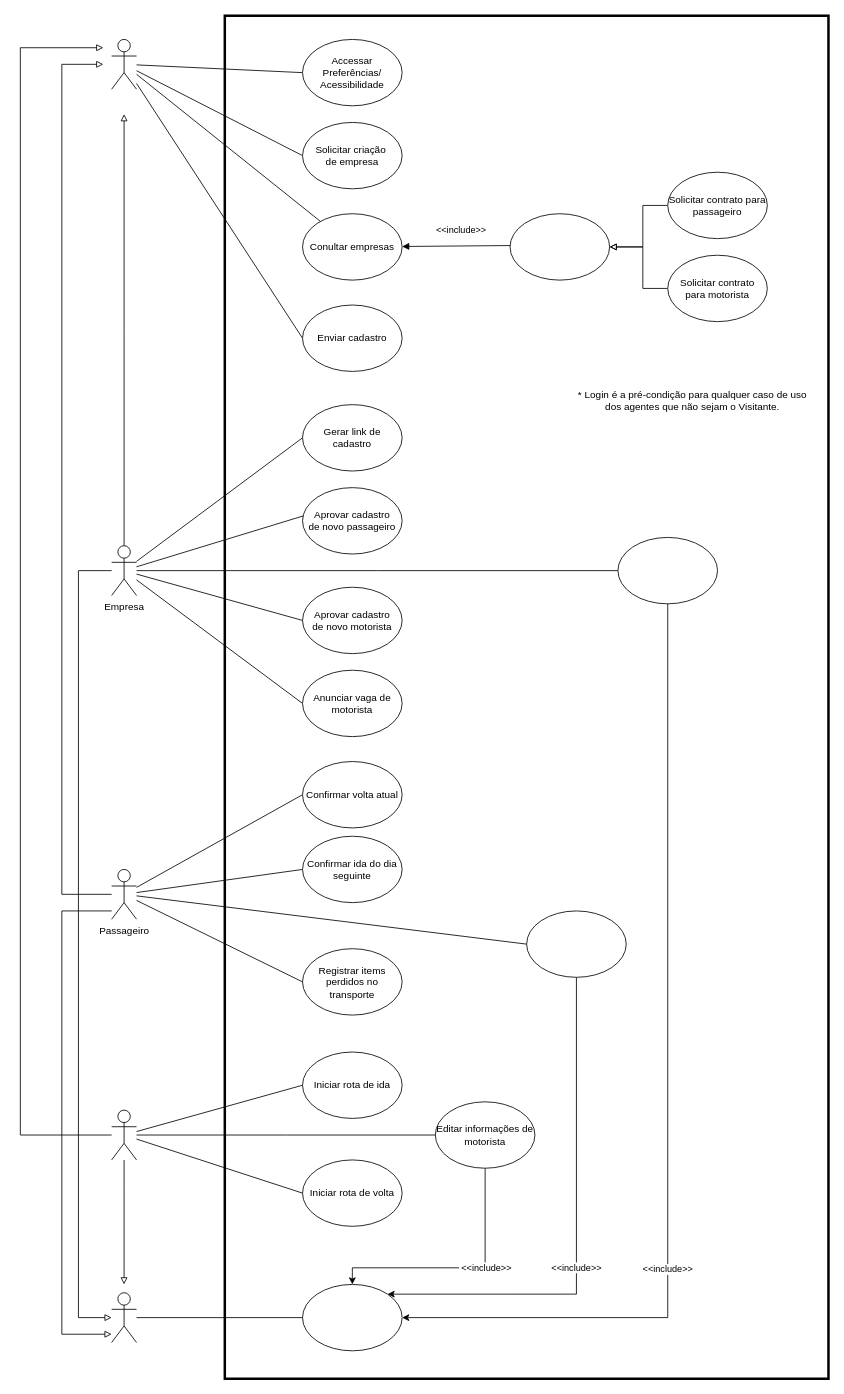
This 844x1394 diagram has some shape labels left out. Here are the shapes that lost their labels. From the top down, the box of each, then its label:
(111, 39, 137, 89): Visitante
(509, 213, 610, 280): Solicitar contrato para empresa
(617, 537, 718, 604): Editar informações da empresa
(526, 910, 626, 977): Editar informações de passageiro
(111, 1109, 137, 1160): Motorista
(111, 1292, 137, 1343): Usuário autenticado
(302, 1284, 402, 1351): Acessar configurações de conta
